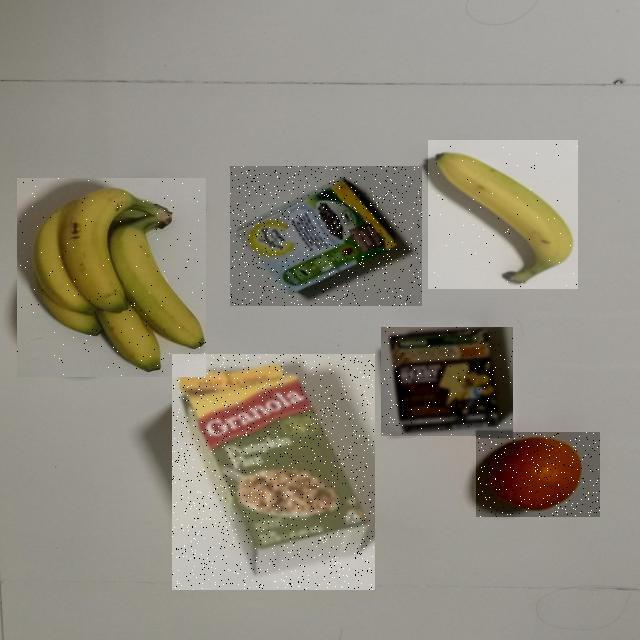banana: (140, 144, 640, 433), (0, 188, 120, 566)
orange: (177, 258, 640, 640)
